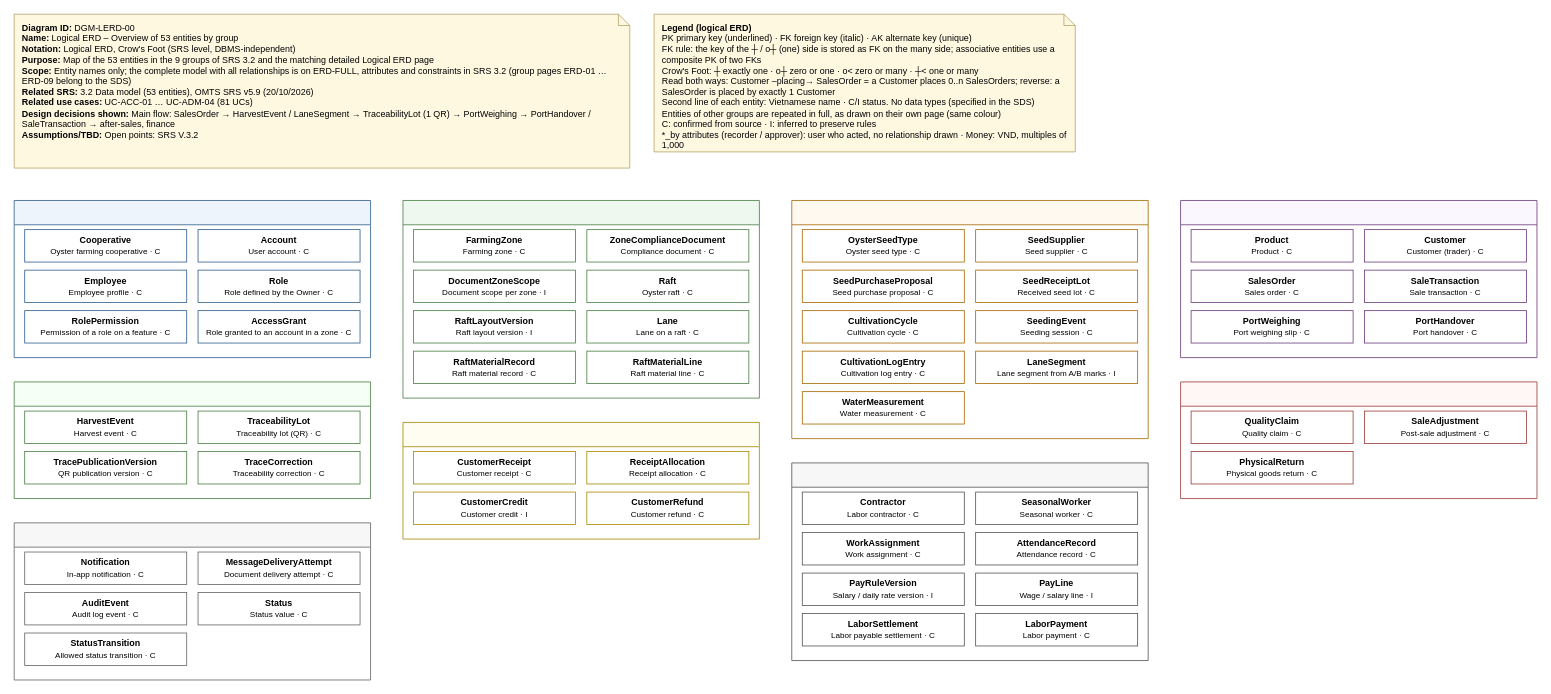
The diagram is 1551 pixels wide and 694 high, and some of its shapes have lost their labels. The box of each missing label's shape, as (x1, y1, x2, y2) in pixels:
After-sales (3) · ERD-06: (1180, 381, 1537, 499)
Customer finance (4) · ERD-07: (402, 422, 759, 539)
Farm (8) · ERD-02: (402, 200, 759, 398)
Harvest and traceability (4) · ERD-05: (13, 381, 371, 499)
Labor (8) · ERD-08: (791, 462, 1148, 661)
Orders and sales (6) · ERD-04: (1180, 200, 1537, 358)
Organization, identity, access control (6) · ERD-01: (13, 200, 371, 358)
Seed, cultivation and water (9) · ERD-03: (791, 200, 1148, 439)
System (5) · ERD-09: (13, 522, 371, 680)
